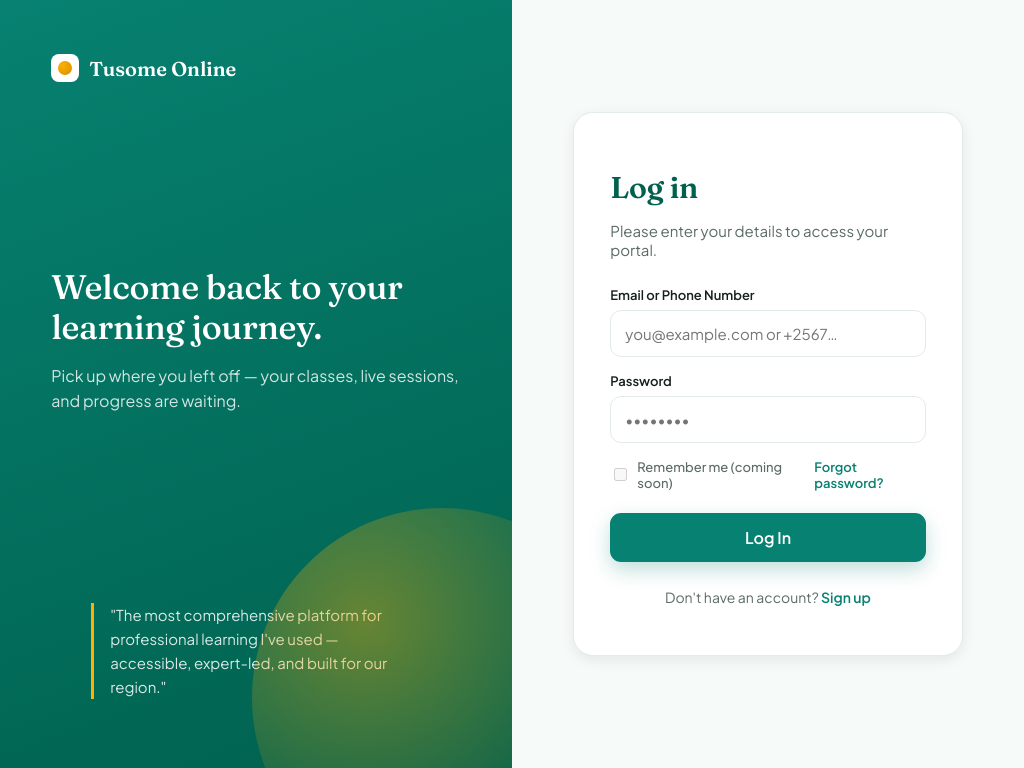
Given a visitor on the login page › when they submit an empty form, then inline errors appear under both fields
What coordinates should you click on to do the following:
click the button "Log In"
I would click on:
 (768, 537)
Its box is x1=610 y1=512 x2=926 y2=562.
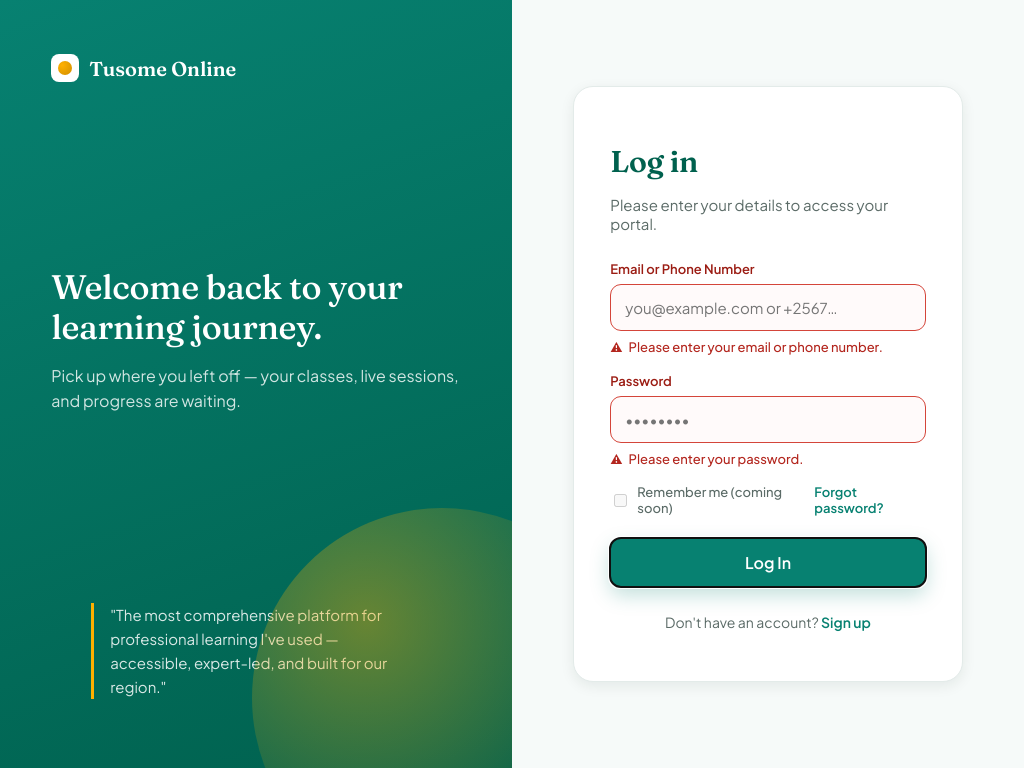
Expected: the text "Please enter your email or phone number." is shown, x1=629 y1=339 x2=883 y2=355
Expected: the text "Please enter your password." is shown, x1=629 y1=450 x2=803 y2=466
